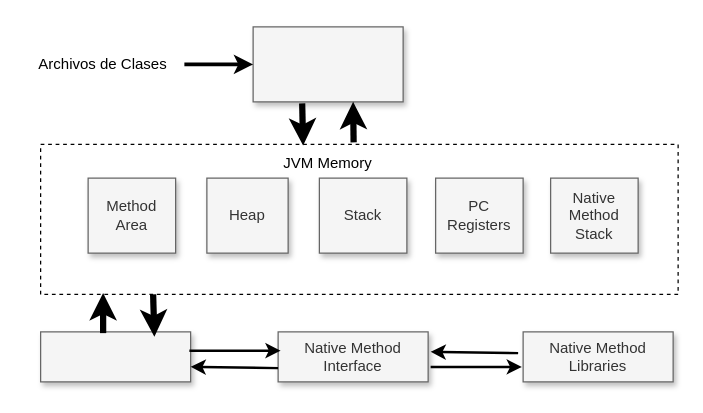
Image size: 703x413. Some labels were removed from this diagram. The centre of each missing label's shape, as x and y in pixels:
Class Loader: (329,66)
Execution Engine: (116,358)
